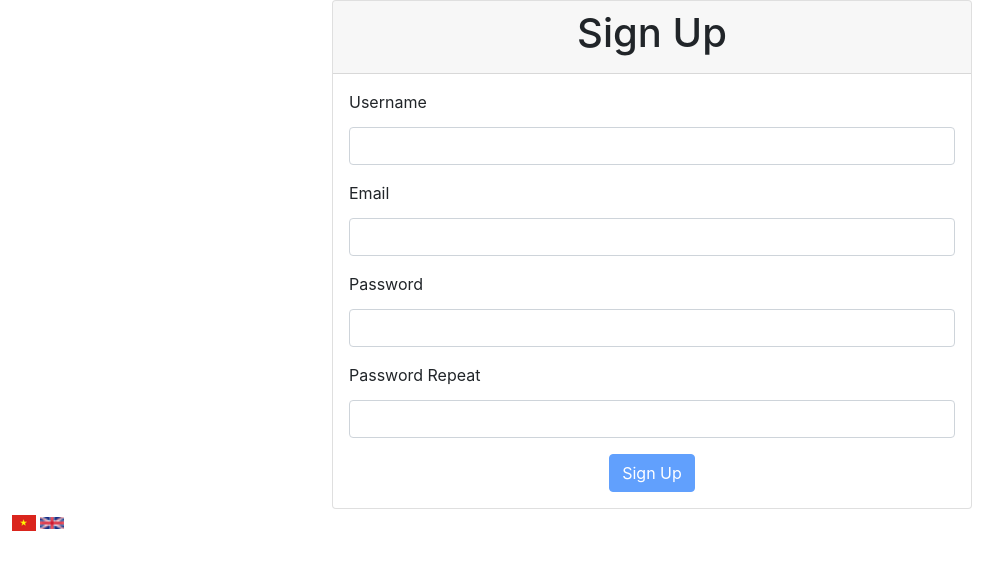
Signup Page › Internationalization › Display all texts in English after changing back from Vietnamese
This screenshot has width=989, height=572.
In the field labelled "Username": (652, 146) [349,127,955,165], type "user1"
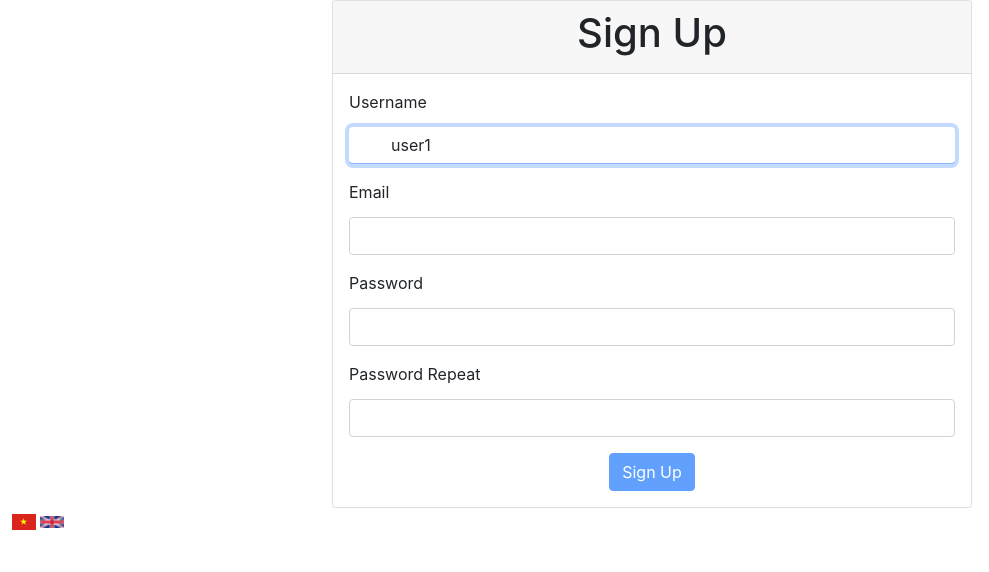
In the field labelled "Email": (652, 236) [349,217,955,255], type "user1@mail.com"
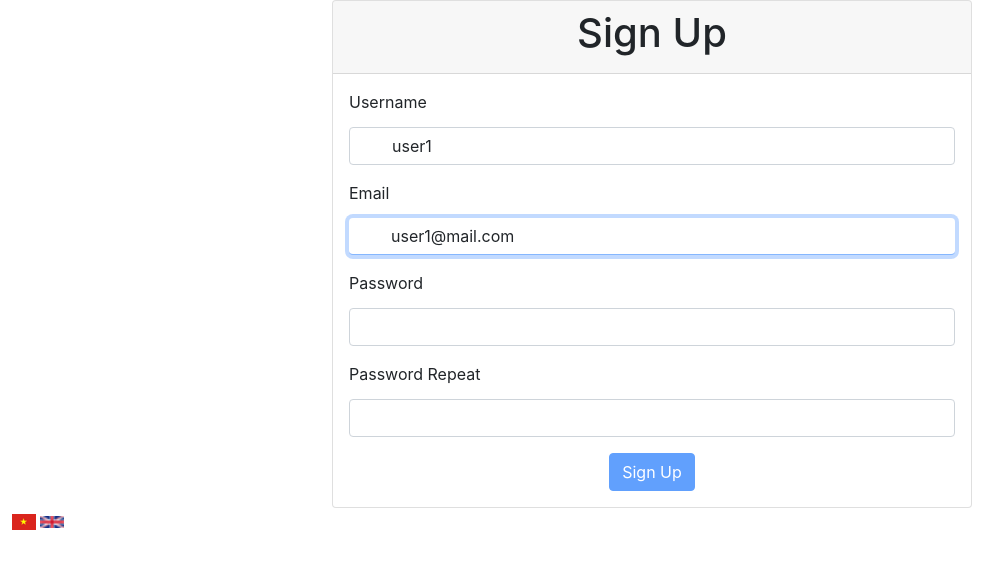
In the password field labelled "Password": (652, 327) [349,308,955,346], type "Password"
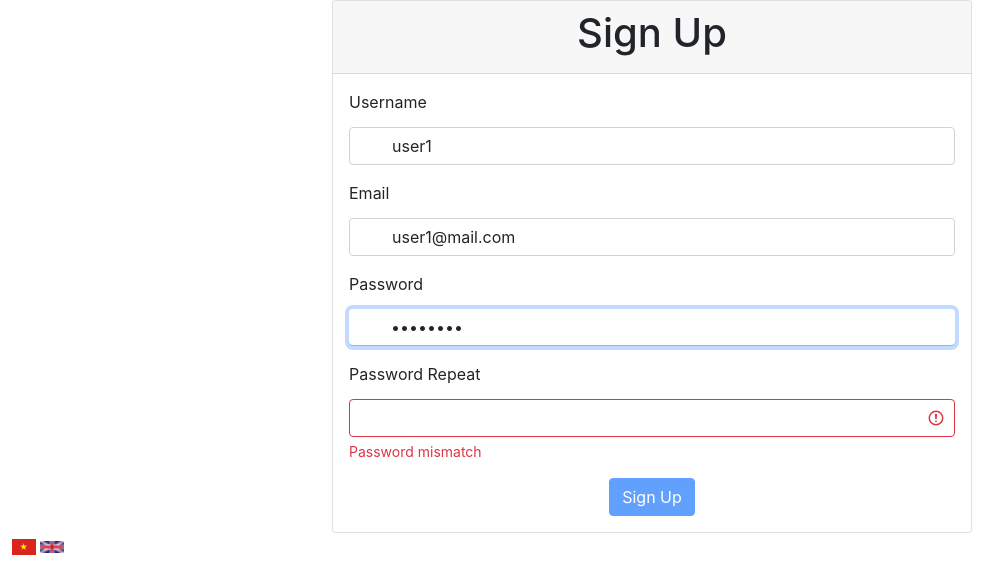
In the password field labelled "Password Repeat": (652, 418) [349,399,955,437], type "Password"
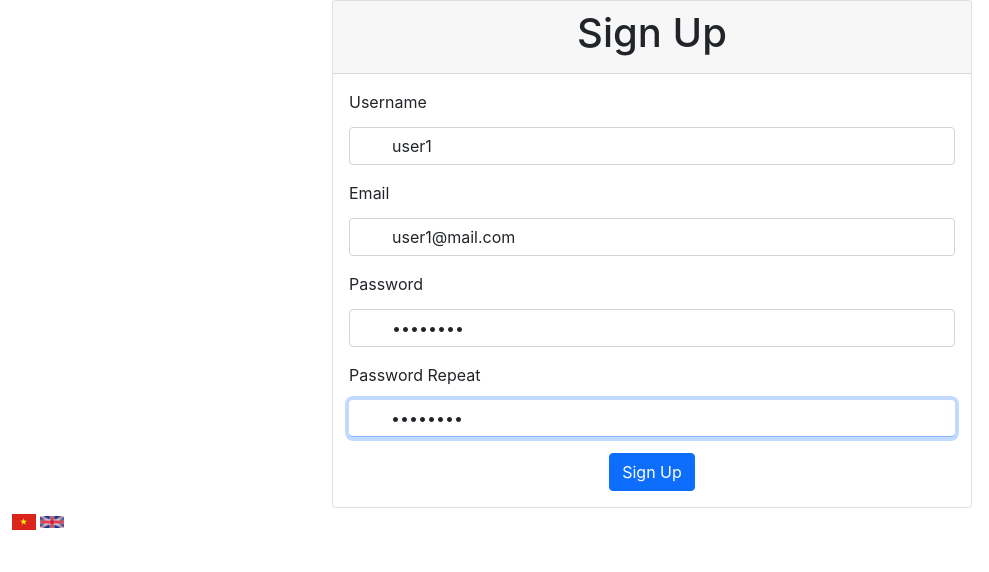
Click the picture titled "Tiếng Việt": (24, 522) [12,514,36,530]
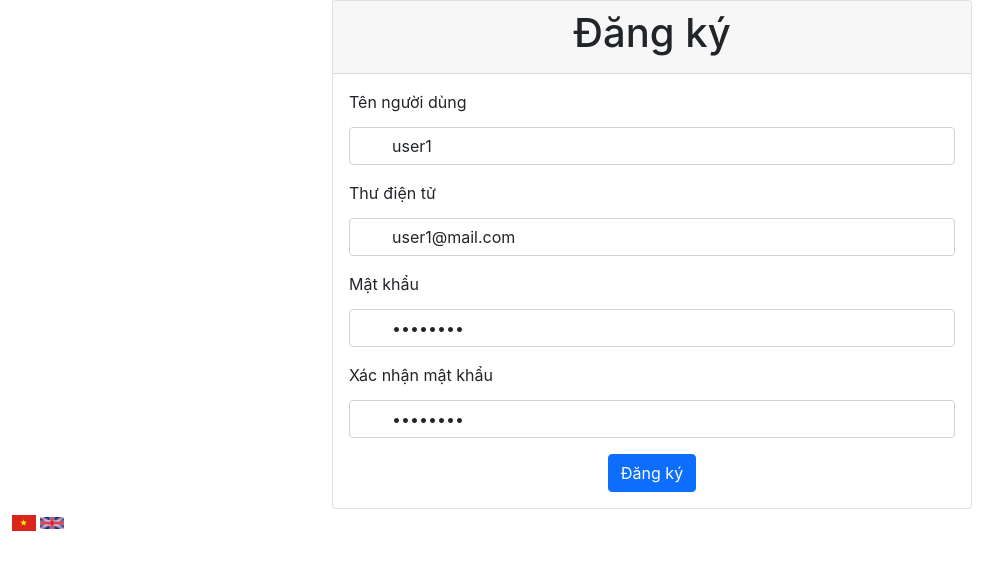
Click the picture titled "English": (52, 523) [40,517,64,529]
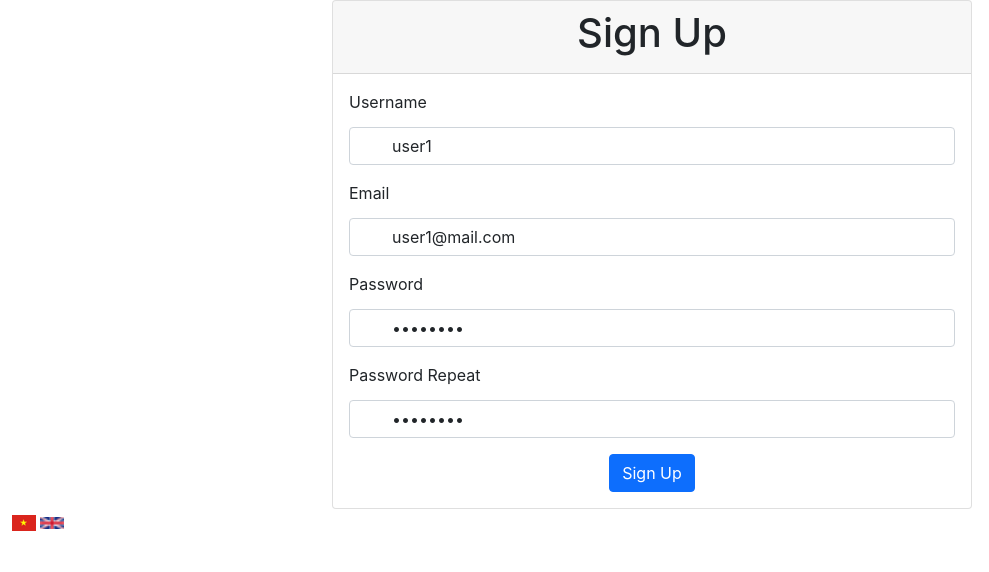
Expected: the heading "Sign Up" is shown, [577,8,727,57]
Expected: the button "Sign Up" is shown, [609,454,695,492]
